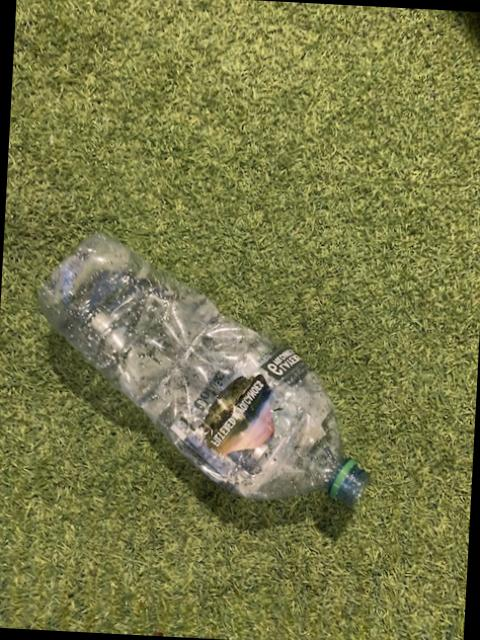plastic: (41, 233, 370, 504)
